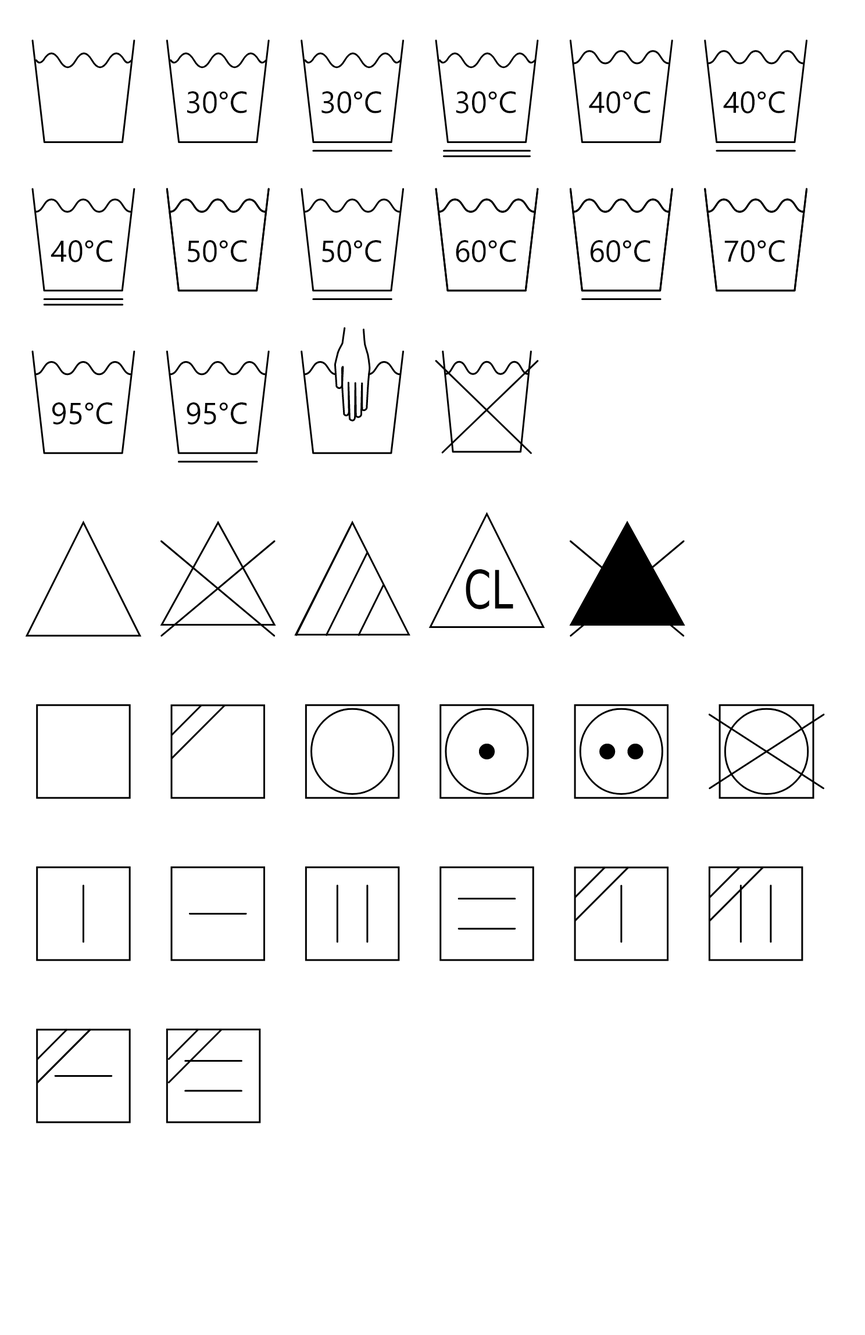ER_bleach: (20, 511, 145, 643)
ER_chlorine_bleach: (423, 504, 550, 636)
ER_dry_in_shade: (168, 698, 269, 806)
ER_flat_dry: (30, 861, 135, 968), (166, 860, 269, 968), (301, 861, 406, 966), (435, 860, 538, 967)
ER_flat_dry_in_shade: (159, 1020, 268, 1130), (703, 857, 810, 966), (30, 1020, 137, 1127), (569, 861, 675, 968)
ER_hand_wash: (294, 319, 409, 462)
ER_natural_dry: (30, 697, 138, 805)
ER_no_bleach: (564, 509, 692, 645), (157, 513, 283, 645)
ER_no_tumble_dry: (703, 693, 830, 812)
ER_no_wash: (430, 337, 542, 465)
ER_non_chlorine_bleach: (291, 514, 419, 640)
ER_tumble_dry: (299, 695, 404, 806)
ER_tumble_dry_low_heat: (436, 700, 538, 805)
ER_tumble_dry_normal_heat: (569, 697, 674, 804)
ER_wash: (24, 33, 140, 152)
ER_wash_30: (160, 32, 273, 152)
ER_wash_30_mild: (429, 33, 547, 164), (296, 34, 408, 161)
ER_wash_40: (565, 33, 677, 152)
ER_wash_40_mild: (27, 181, 139, 312), (699, 31, 811, 156)
ER_wash_50: (160, 181, 273, 297)
ER_wash_50_mild: (296, 182, 409, 308)
ER_wash_60: (565, 178, 675, 304), (429, 178, 543, 299)
ER_wash_70: (700, 181, 812, 300)
ER_wash_95: (26, 342, 139, 466)
ER_wash_95_mild: (160, 340, 273, 472)
